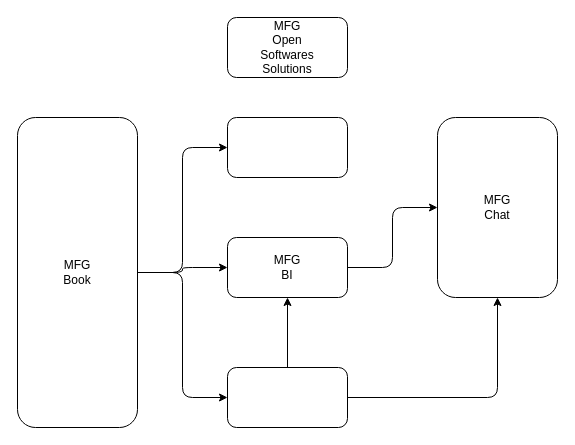
This 575x445 diagram has some shape labels left out. The shapes that lost their labels are listed below. From the top down, each one's centre as x and y in pixels, then its label:
At point (287, 147): "MFG Case".
At point (287, 397): "MFG MODEL".
